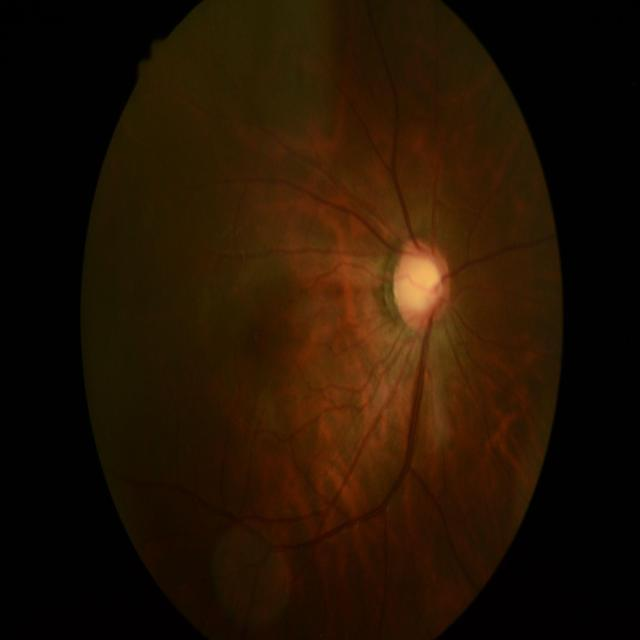cup: (406, 258, 442, 315)
disk: (394, 237, 452, 331)
